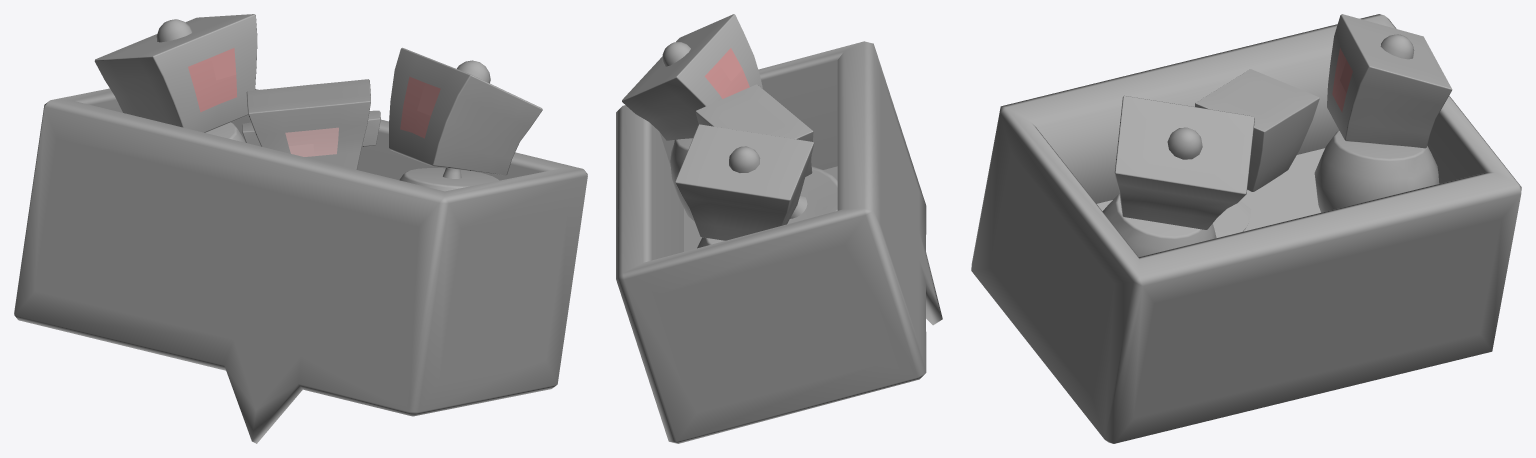
File: Chess_37.fbx
3 renders of one model, left to right at view 1: azimuth 30°, elevation 25°; view 2: azimuth 150°, elevation 25°; view 3: azimuth 270°, elevation 25°, orthographic. The views are drawn at different scales.
Visible parts, largest first — view 1: Chess_37:Chess_37_1group4, Chess_37:group4Chess_37_4_1, Chess_37:group4Chess_37_2_1, Chess_37:group4Chess_37_3_1, Chess_37:group4Chess_37_2_2, Chess_37:group4Chess_37_4_2, Chess_37:group4Chess_37_3_2; view 2: Chess_37:Chess_37_1group4, Chess_37:group4Chess_37_2_1, Chess_37:group4Chess_37_4_1, Chess_37:group4Chess_37_3_1, Chess_37:group4Chess_37_4_2; view 3: Chess_37:Chess_37_1group4, Chess_37:group4Chess_37_2_1, Chess_37:group4Chess_37_4_1, Chess_37:group4Chess_37_3_1, Chess_37:group4Chess_37_2_2.
Part boxes in pixels (bbox=[...]): Chess_37:Chess_37_1group4: bbox=[14, 88, 587, 443]; Chess_37:group4Chess_37_4_1: bbox=[389, 47, 542, 191]; Chess_37:group4Chess_37_2_1: bbox=[94, 14, 257, 142]; Chess_37:group4Chess_37_3_1: bbox=[241, 79, 380, 169]; Chess_37:group4Chess_37_2_2: bbox=[188, 48, 237, 112]; Chess_37:group4Chess_37_4_2: bbox=[400, 76, 440, 138]; Chess_37:group4Chess_37_3_2: bbox=[285, 127, 338, 156]; Chess_37:Chess_37_1group4: bbox=[616, 41, 942, 443]; Chess_37:group4Chess_37_2_1: bbox=[675, 124, 814, 248]; Chess_37:group4Chess_37_4_1: bbox=[622, 14, 762, 221]; Chess_37:group4Chess_37_3_1: bbox=[695, 84, 837, 224]; Chess_37:group4Chess_37_4_2: bbox=[704, 48, 749, 98]; Chess_37:Chess_37_1group4: bbox=[971, 14, 1521, 443]; Chess_37:group4Chess_37_2_1: bbox=[1314, 14, 1452, 212]; Chess_37:group4Chess_37_4_1: bbox=[1102, 95, 1254, 256]; Chess_37:group4Chess_37_3_1: bbox=[1195, 69, 1319, 237]; Chess_37:group4Chess_37_2_2: bbox=[1332, 48, 1352, 112].
Bounding box in the file's own units: 3.99 × 2.67 × 4.26.
